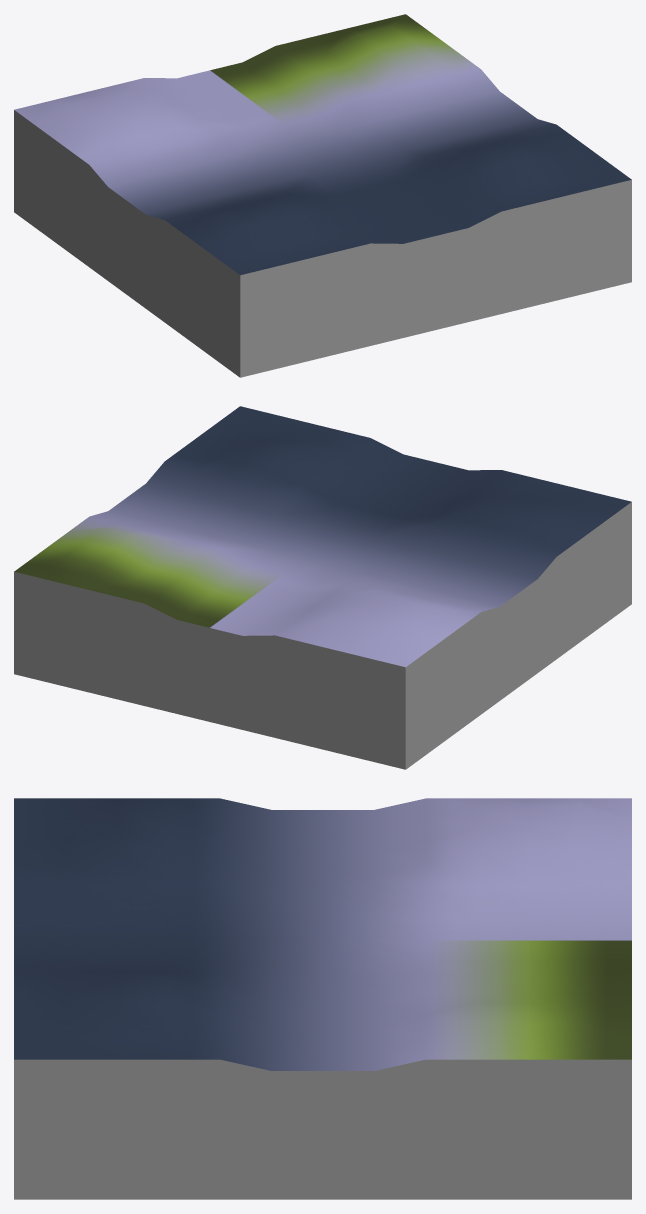
The model's file is PathHillCross.fbx.
3 views of the same model, one above another, from view 1: azimuth 30°, elevation 25°; view 2: azimuth 150°, elevation 25°; view 3: azimuth 270°, elevation 25° (orthographic). The views are drawn at different scales.
Parts seen in each view (by area): view 1: PathHillCross; view 2: PathHillCross; view 3: PathHillCross.
Part boxes in pixels (x1,y1,x2,y2): PathHillCross: (14, 14, 631, 377); PathHillCross: (14, 406, 631, 769); PathHillCross: (14, 798, 631, 1199).
Bounding box in the file's own units: 1200 × 329 × 1200.
